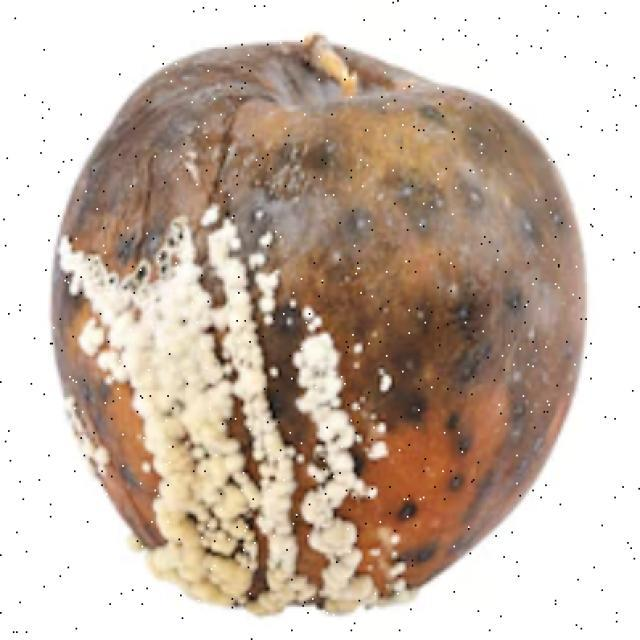Rotten: (63, 52, 595, 630)
